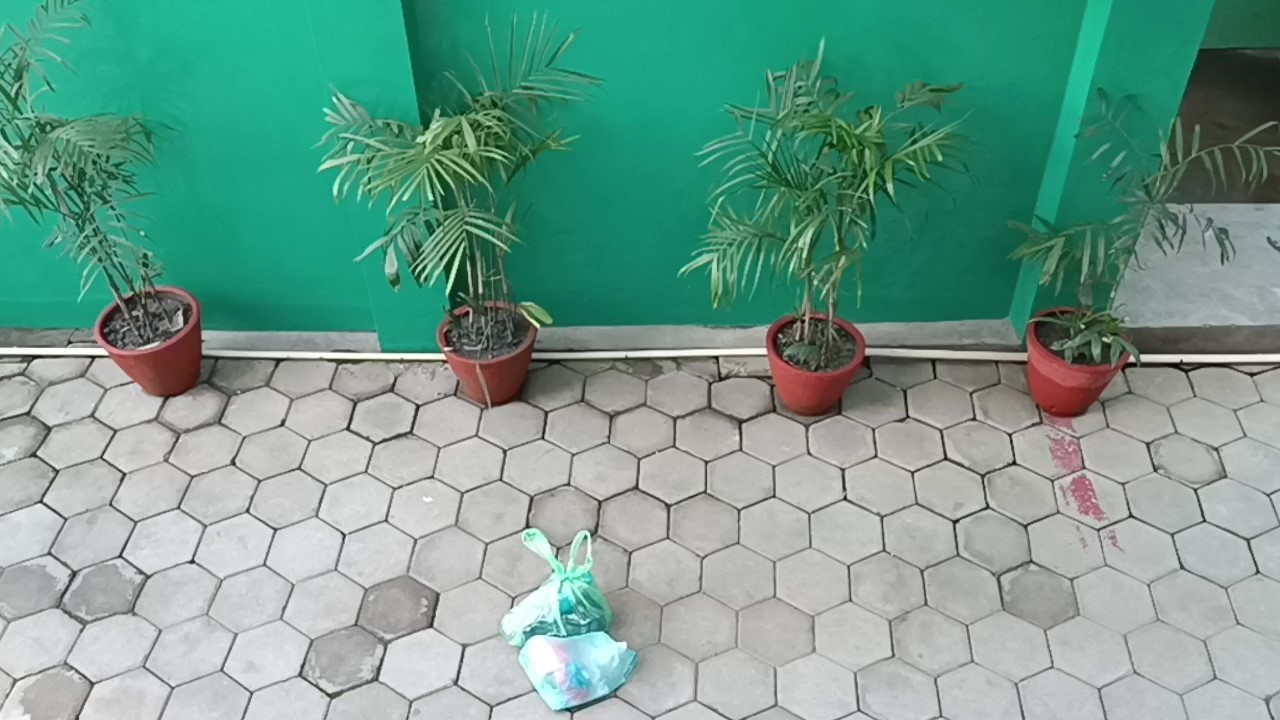thrownwaste: (474, 518, 643, 648), (520, 621, 651, 708)
